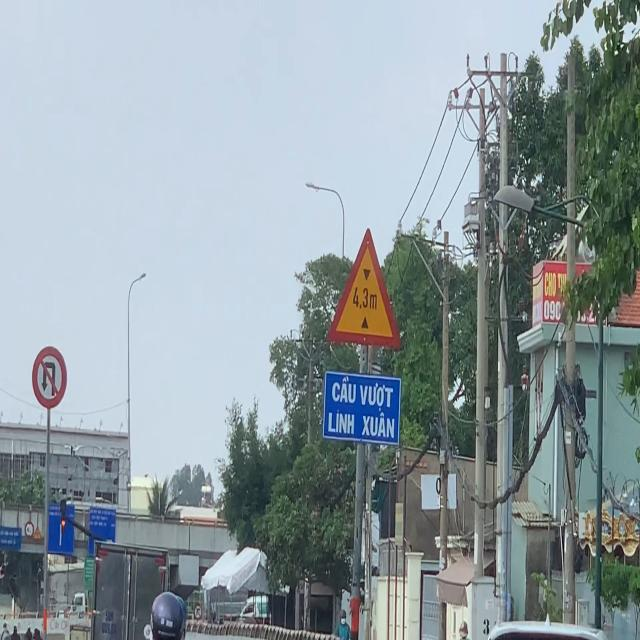Cam quay dau xe: (27, 341, 71, 412)
Nguy hiem: (323, 226, 403, 351)
